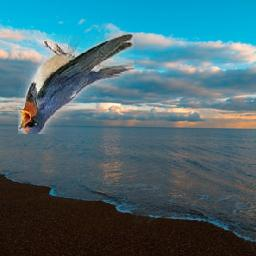Swallow: (18, 34, 134, 134)
